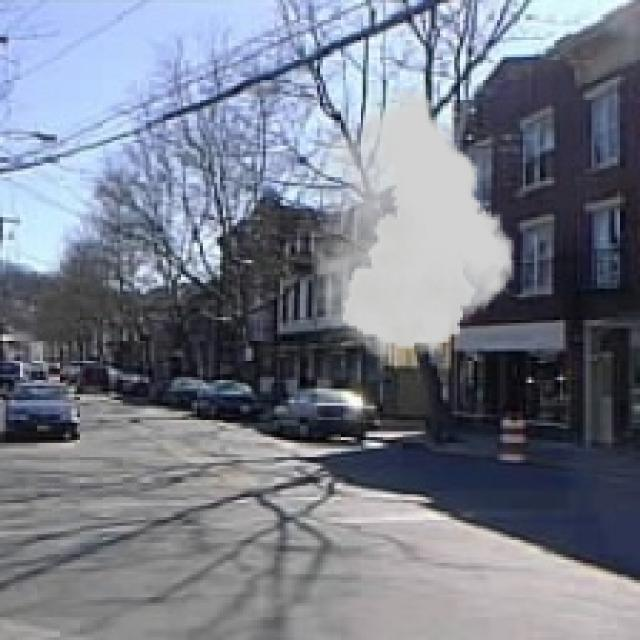smoke: (312, 89, 514, 360)
